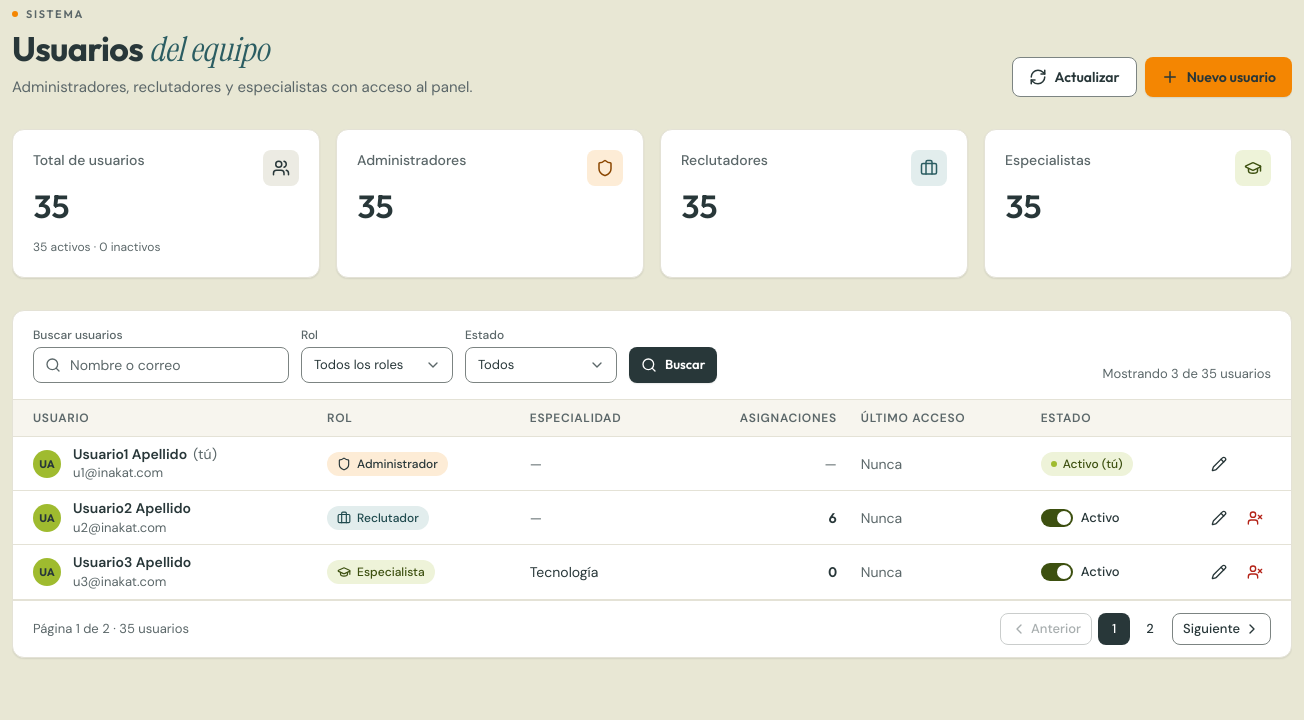
Test: /admin/users › ADM-025: la tarjeta Total es el total real y se llega a la página 2
The image size is (1304, 720).
Expected: the text "Usuario2 Apellido" is shown, [73,499,191,519]
Expected: the text "Total de usuarios" shows "35", [33,186,69,226]
Click the button "Siguiente". click: (1222, 628)
box: [1172,612,1271,644]
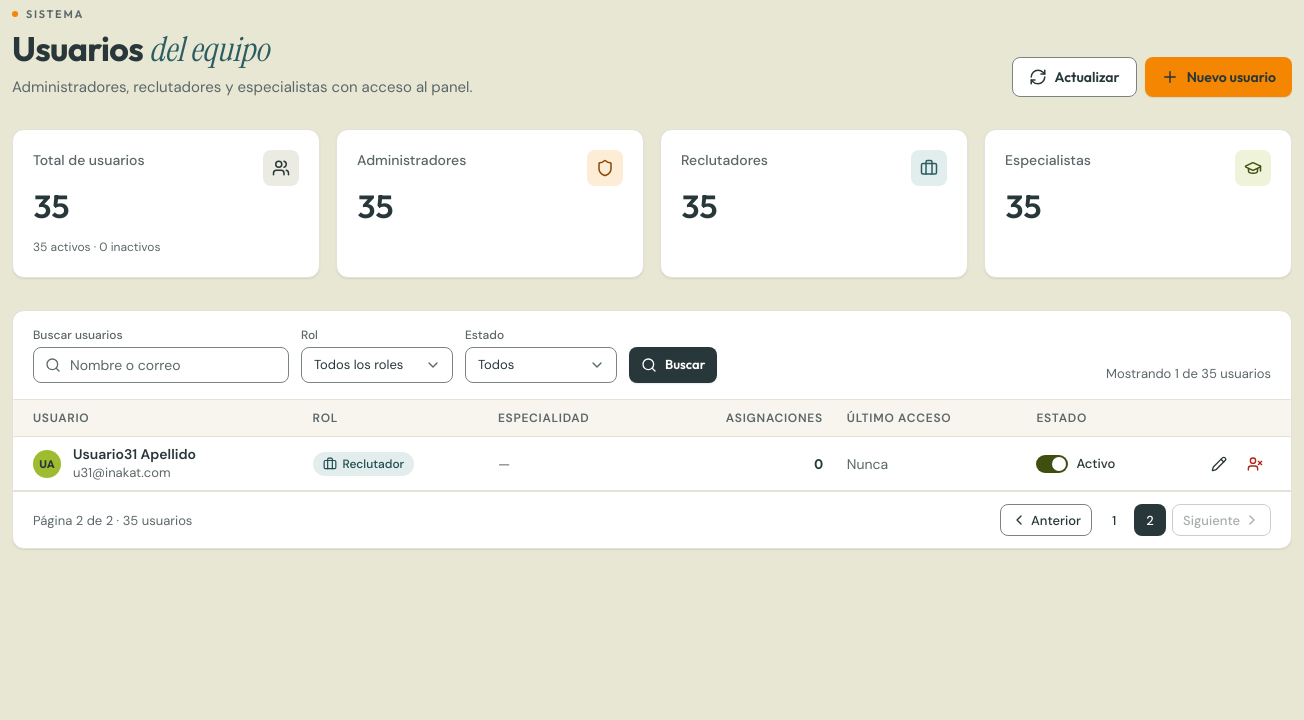
Now the text "Usuario31 Apellido" is shown, box [73,445,196,464]
